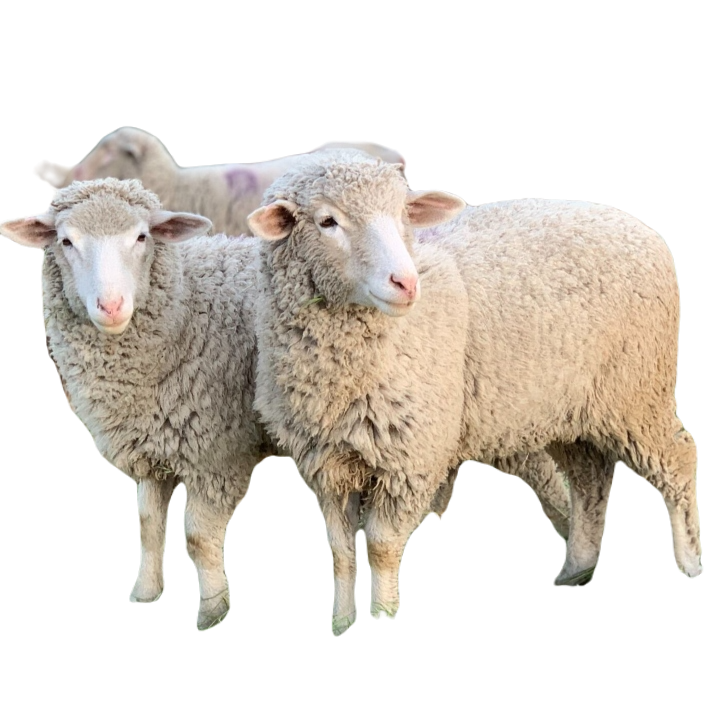Sheep: (243, 144, 713, 640), (0, 174, 237, 641)
